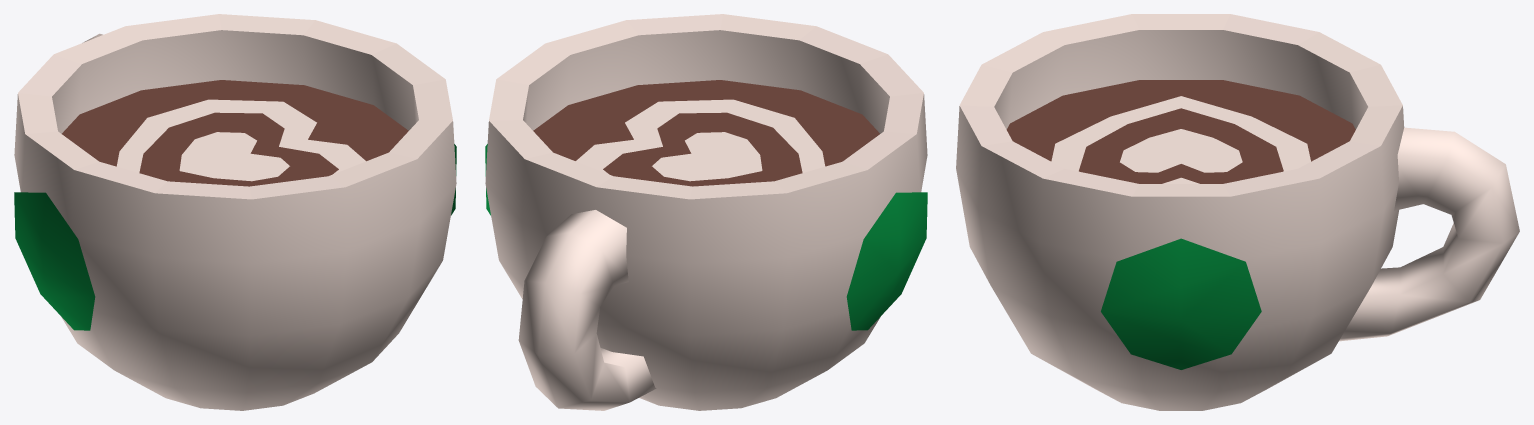
The model's file is Coffee_geo.fbx.
3 renders of one model, left to right at view 1: azimuth 30°, elevation 25°; view 2: azimuth 150°, elevation 25°; view 3: azimuth 270°, elevation 25°, orthographic.
Visible parts, largest first — view 1: Coffee_geo; view 2: Coffee_geo; view 3: Coffee_geo.
Part boxes in pixels (x1=…): Coffee_geo: x1=14, y1=14, x2=456, y2=410; Coffee_geo: x1=485, y1=14, x2=927, y2=410; Coffee_geo: x1=956, y1=14, x2=1519, y2=410.
Bounding box in the file's own units: 0.507 × 0.6333 × 0.3298.
